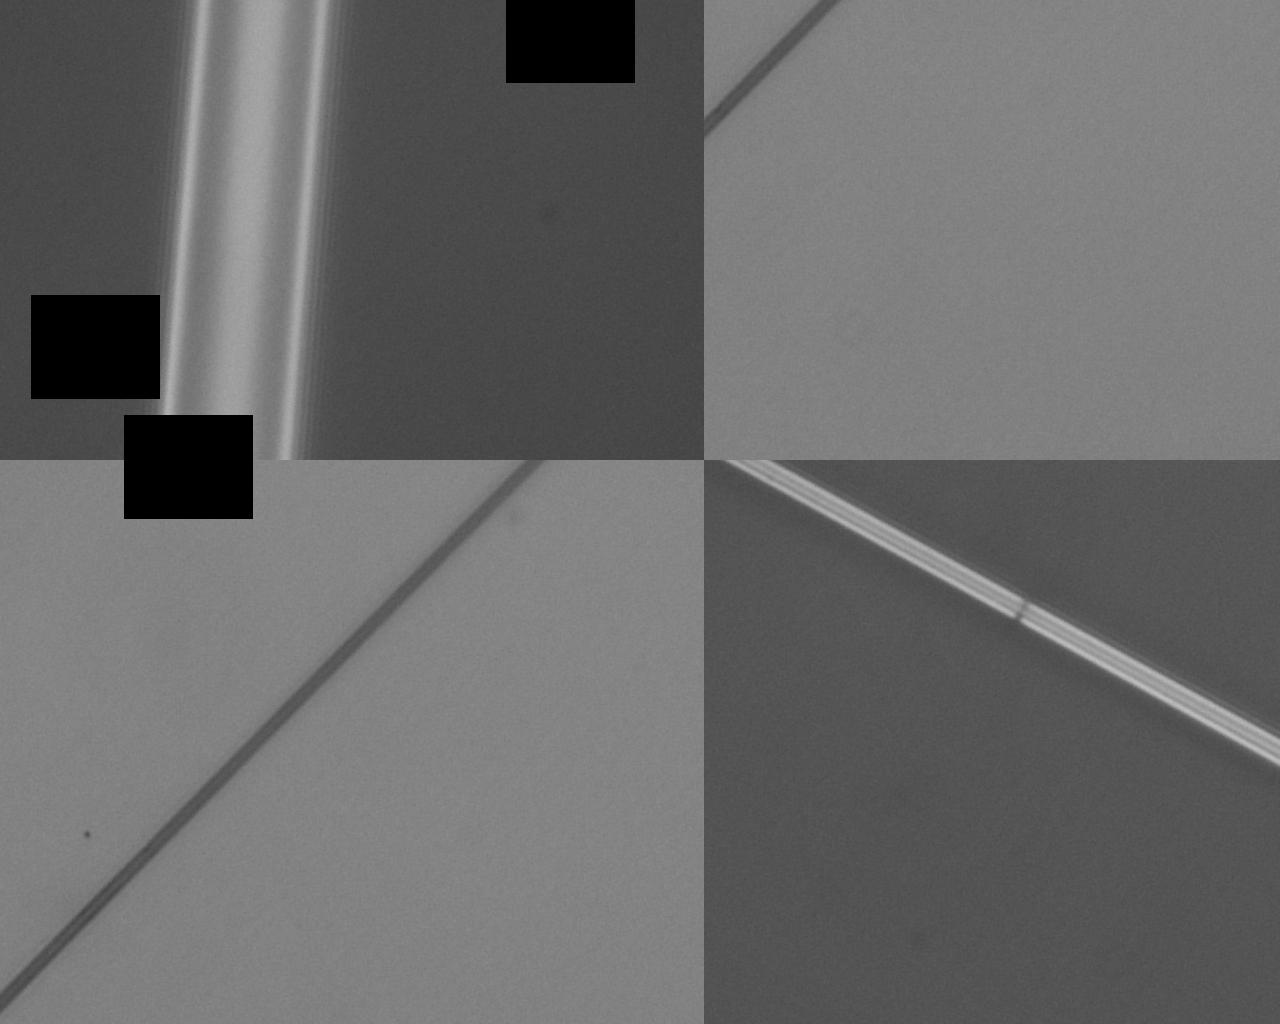fiber: (665, 212, 1158, 436), (665, 784, 831, 1024)
